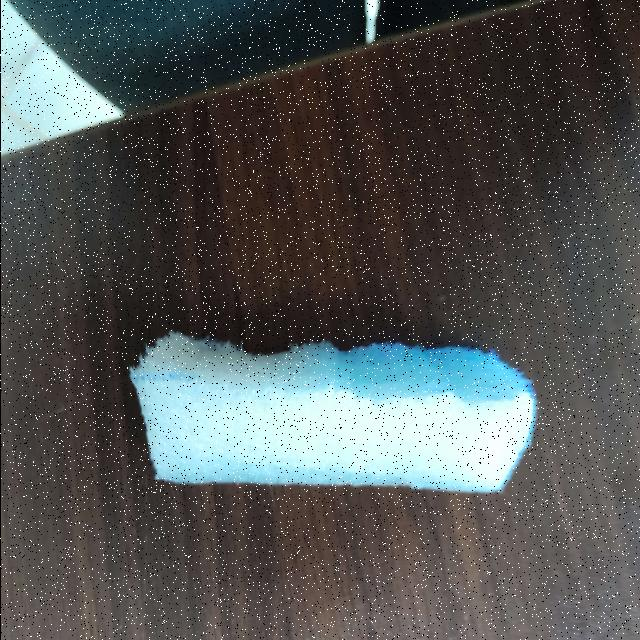engine: (128, 338, 548, 491)
